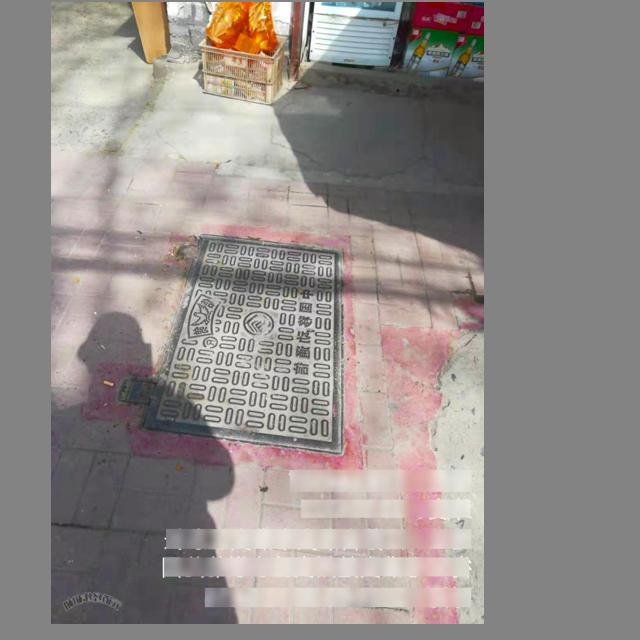good: (117, 231, 344, 457)
